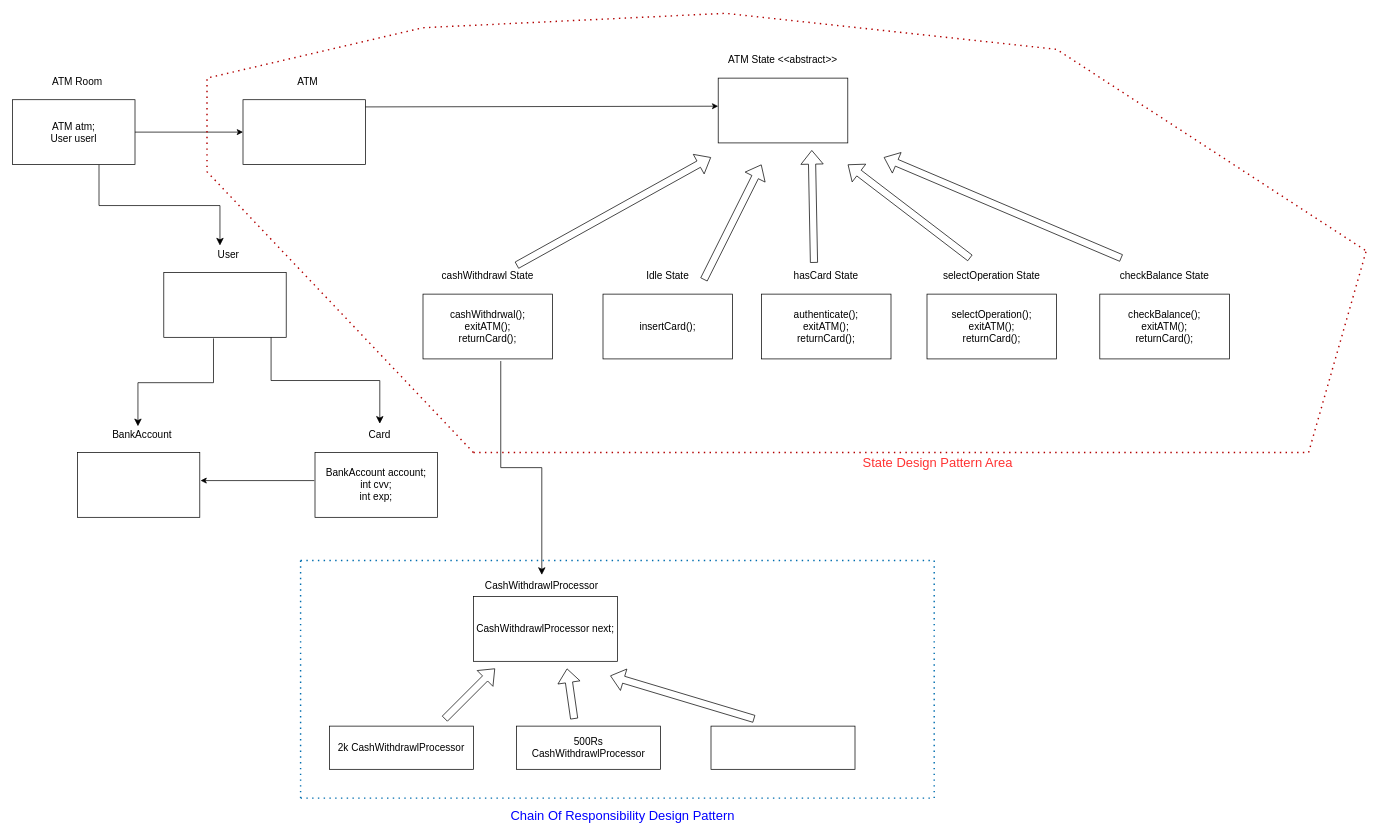
Image size: 1380x839. Some labels were removed from this diagram. The shapes that lost their labels are listed below. From the top down, each one's centre as x and y in pixels, then its label:
the point at 782,110: // All the operation that can be performed in particular state
the point at 303,132: ATM State state
the point at 224,304: BankAccount account; Card card
the point at 138,484: int balance; updateBalance();
the point at 782,747: 2oo Rs CashWithdrawlProcessor
